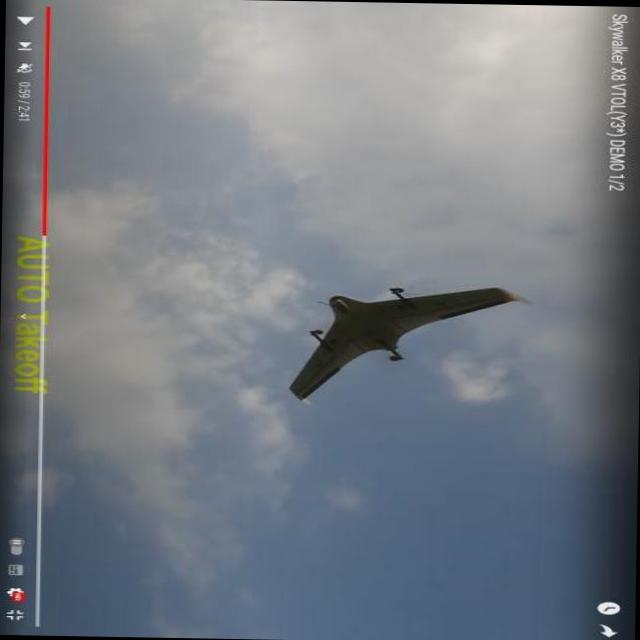UAV: (270, 260, 512, 416)
